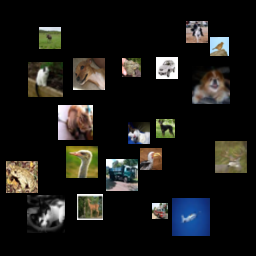airplane: (172, 198, 210, 236)
automobile: (156, 57, 178, 79)
bird: (66, 146, 98, 178), (140, 148, 162, 170), (210, 37, 229, 56)
cat: (27, 195, 65, 233), (28, 62, 63, 97), (58, 105, 93, 140), (128, 122, 150, 144)
deer: (215, 141, 247, 173), (77, 194, 103, 220), (39, 27, 61, 49)
dog: (192, 66, 230, 104), (73, 58, 105, 90), (156, 119, 175, 138)
frog: (6, 161, 38, 193), (122, 58, 141, 77)
